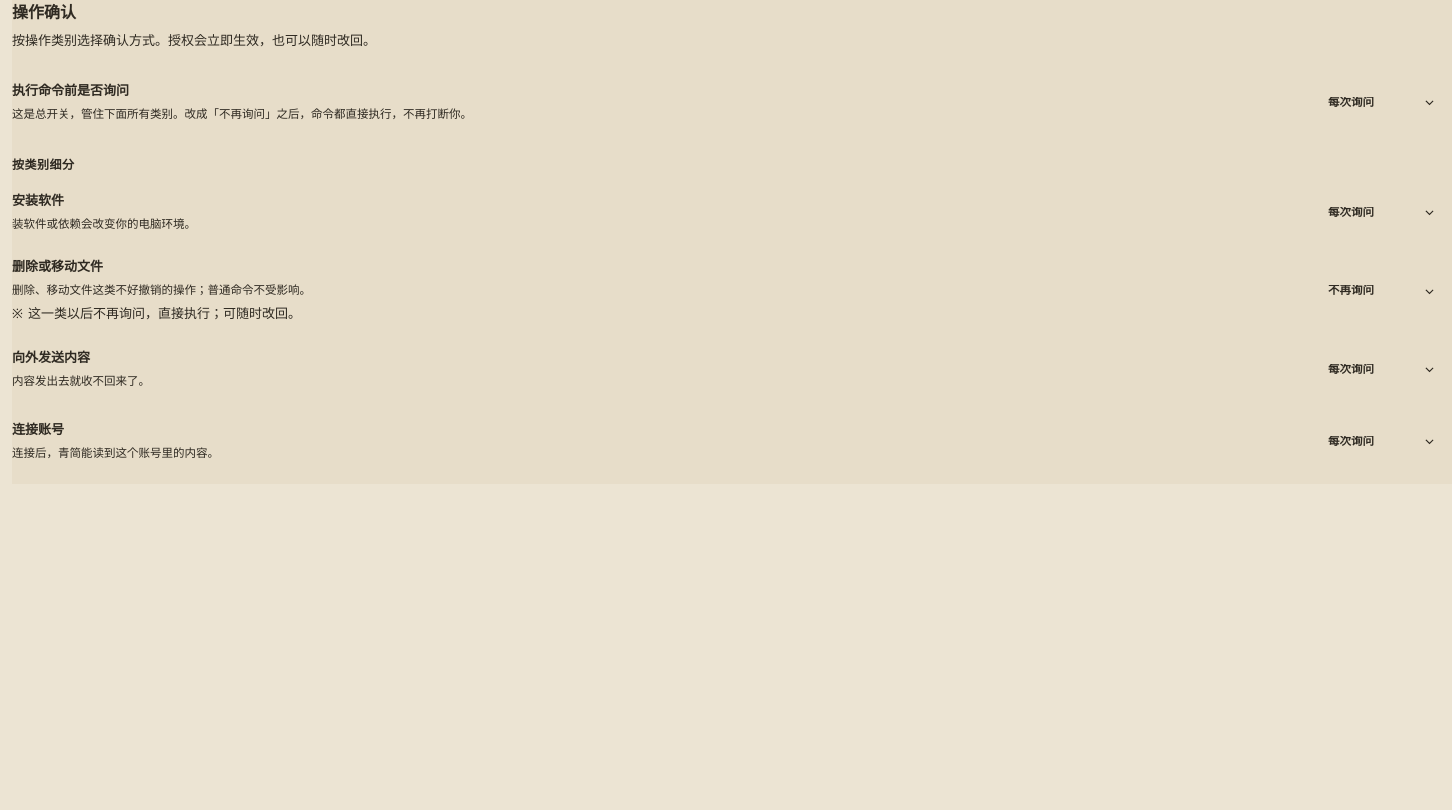
Test: SecurityPanel › 连接账号 也能选不再询问并按既有通道落盘
Click the dropdown labelled "每次询问" in the row of "连接后，青简能读到这个账号里的内容。".
click(1382, 442)  # box [1318,426,1446,458]
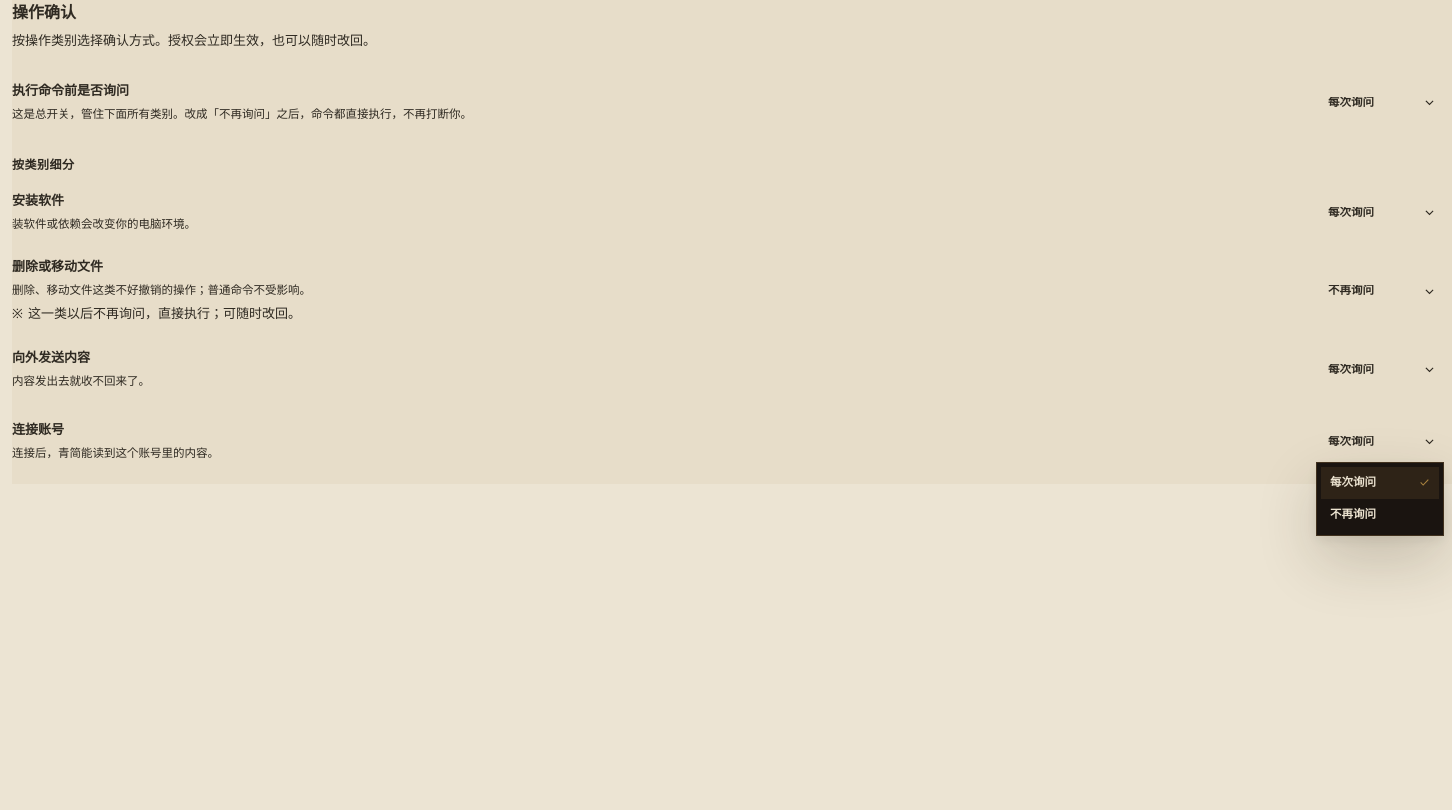
expect the option "不再询问" is shown: met
Click the option "不再询问".
click(1380, 515)  # box [1321,499,1439,531]
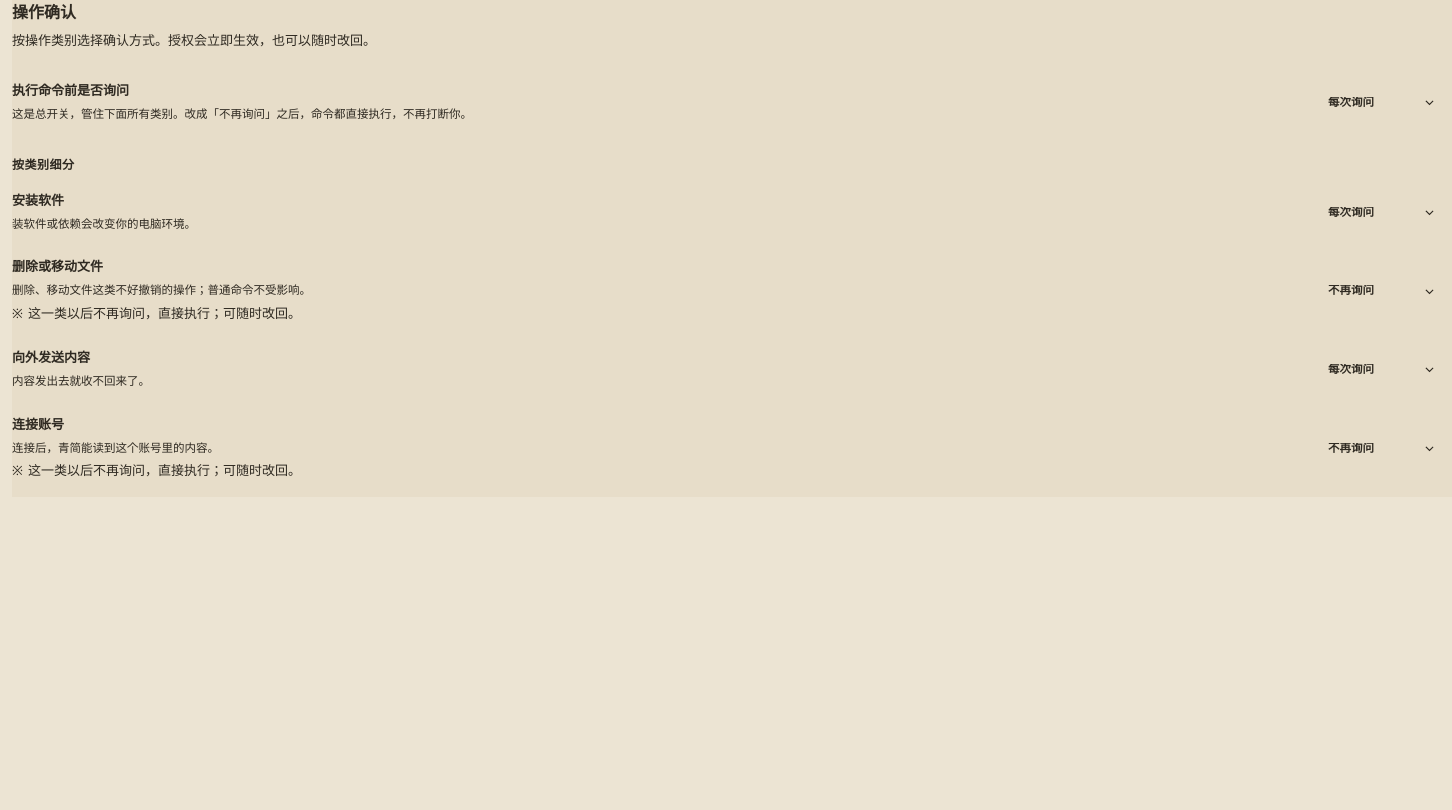
expect the dropdown labelled "不再询问" in the row of "连接后，青简能读到这个账号里的内容。" is shown: met, box [1318,432,1446,464]
expect the text "这一类以后不再询问，直接执行；可随时改回。" below "连接后，青简能读到这个账号里的内容。" is shown: met, box [28,463,301,478]
